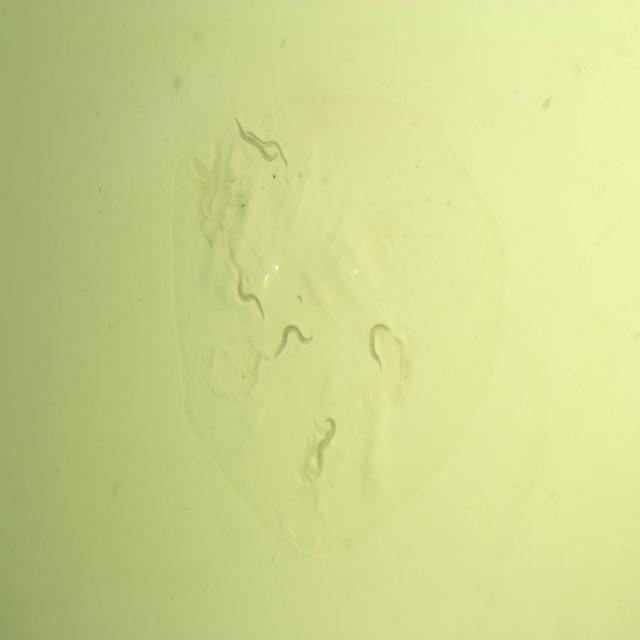worm: (231, 115, 282, 164), (307, 411, 344, 478), (270, 320, 317, 362), (241, 128, 289, 169), (234, 270, 270, 324), (363, 321, 392, 376)
